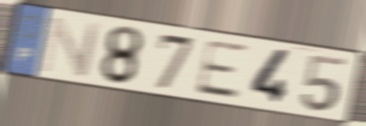4: (248, 46, 293, 109)
5: (298, 54, 349, 114)
7: (155, 30, 195, 92)
8: (99, 24, 145, 87)
E: (192, 37, 250, 101)
N: (37, 15, 105, 79)
